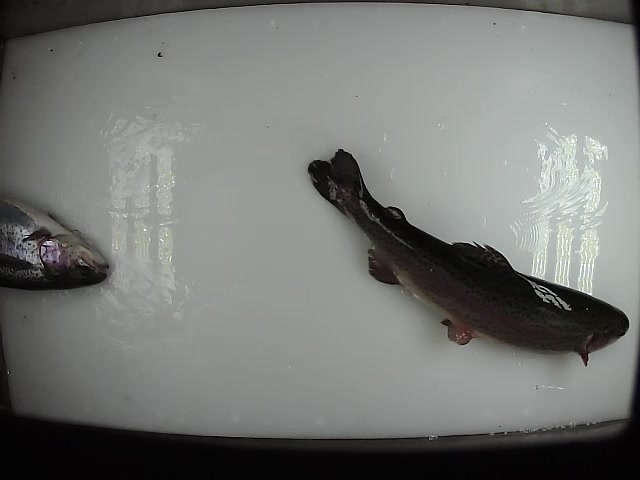fish: (304, 147, 630, 367), (1, 192, 112, 292)
